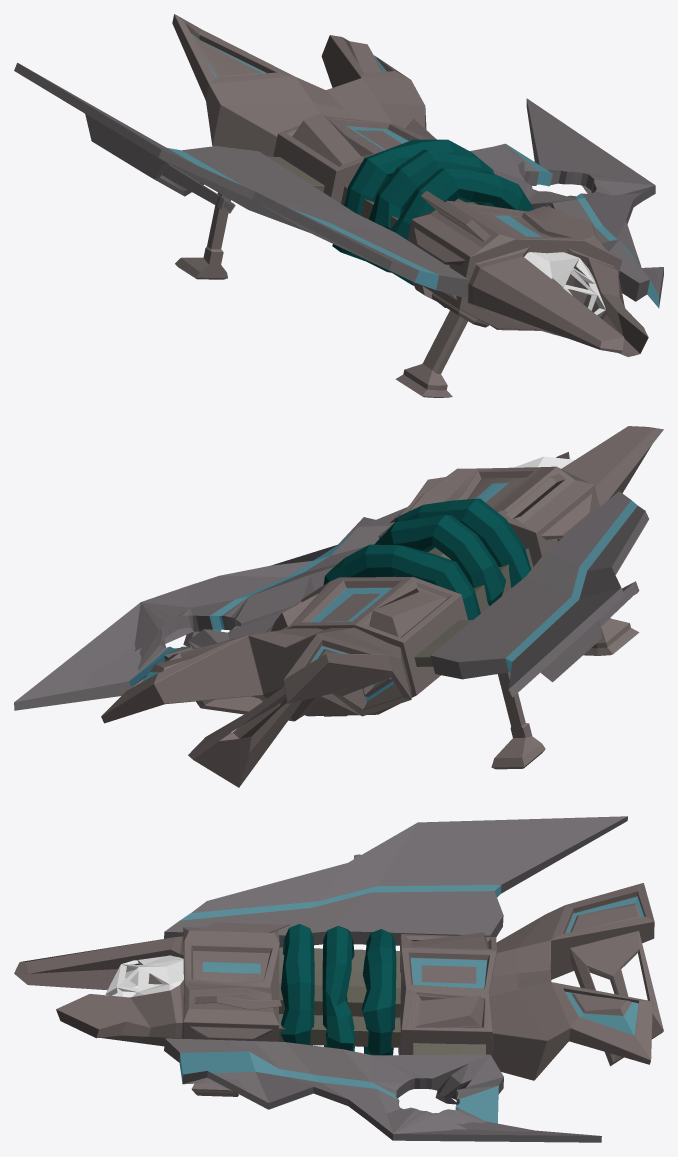
The model's file is SpaceShipBroken.fbx.
The picture shows the model from 3 angles, top to bottom: view 1: azimuth 30°, elevation 25°; view 2: azimuth 150°, elevation 25°; view 3: azimuth 270°, elevation 25°; orthographic projection. The views are drawn at different scales.
Parts seen in each view (by area): view 1: Wings, Main Body, Tail, Nose, Torus.003, Torus.001, Torus.002, Landing Legs.001, CockPit, Cube.015; view 2: Wings, Main Body, Tail, Tail Conector, Torus.001, Torus.002, Nose, Torus.003, Cube.015, Landing Legs.001, Wing Conector back, Main Body.001; view 3: Wings, Main Body, Tail, Nose, Torus.002, Tail Conector, Torus.003, Torus.001, Main Body.001, CockPit, Wing Conector back.
Boxes of the visible parts, bbox=[...] form: Wings: bbox=[14, 62, 663, 307]; Main Body: bbox=[273, 113, 621, 329]; Tail: bbox=[172, 14, 426, 156]; Nose: bbox=[467, 247, 648, 356]; Torus.003: bbox=[390, 168, 533, 307]; Torus.001: bbox=[369, 149, 493, 285]; Torus.002: bbox=[332, 139, 493, 272]; Landing Legs.001: bbox=[395, 310, 467, 397]; CockPit: bbox=[524, 252, 605, 334]; Cube.015: bbox=[175, 192, 230, 279]; Wings: bbox=[14, 491, 648, 710]; Main Body: bbox=[265, 466, 599, 716]; Tail: bbox=[101, 627, 411, 723]; Tail Conector: bbox=[188, 687, 302, 787]; Torus.001: bbox=[374, 515, 505, 606]; Torus.002: bbox=[323, 544, 480, 619]; Nose: bbox=[556, 426, 663, 506]; Torus.003: bbox=[395, 498, 531, 587]; Cube.015: bbox=[491, 672, 545, 769]; Landing Legs.001: bbox=[583, 618, 639, 655]; Wing Conector back: bbox=[414, 620, 472, 666]; Main Body.001: bbox=[394, 547, 533, 613]; Wings: bbox=[164, 816, 627, 1142]; Main Body: bbox=[182, 922, 496, 1056]; Tail: bbox=[489, 883, 654, 1080]; Nose: bbox=[14, 936, 183, 1046]; Torus.002: bbox=[361, 929, 396, 1055]; Tail Conector: bbox=[570, 931, 663, 1066]; Torus.003: bbox=[280, 924, 314, 1045]; Torus.001: bbox=[322, 926, 355, 1051]; Main Body.001: bbox=[278, 947, 400, 1047]; CockPit: bbox=[105, 955, 183, 997]; Wing Conector back: bbox=[412, 1043, 485, 1054].
Bounding box in the file's own units: 820 × 290 × 1112.
